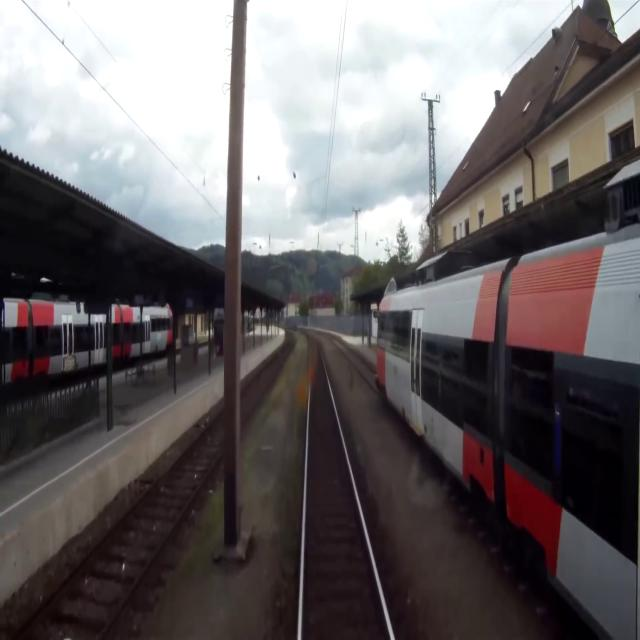rail-track: (24, 414, 224, 639), (303, 336, 390, 639), (240, 331, 294, 423), (337, 343, 376, 386)
